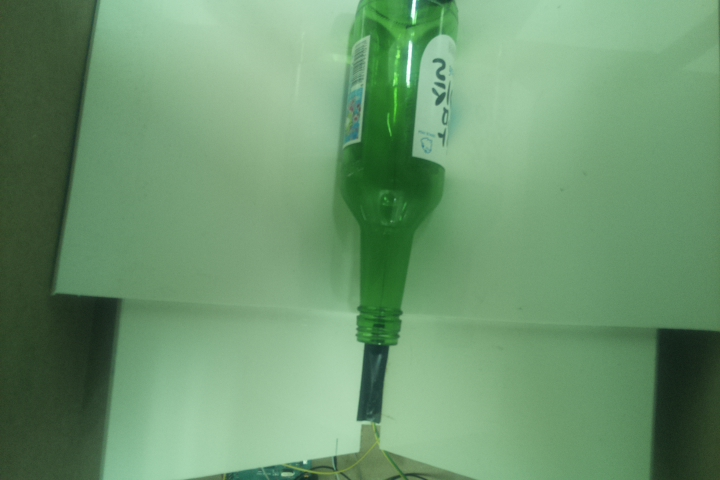soju: (335, 1, 460, 349)
